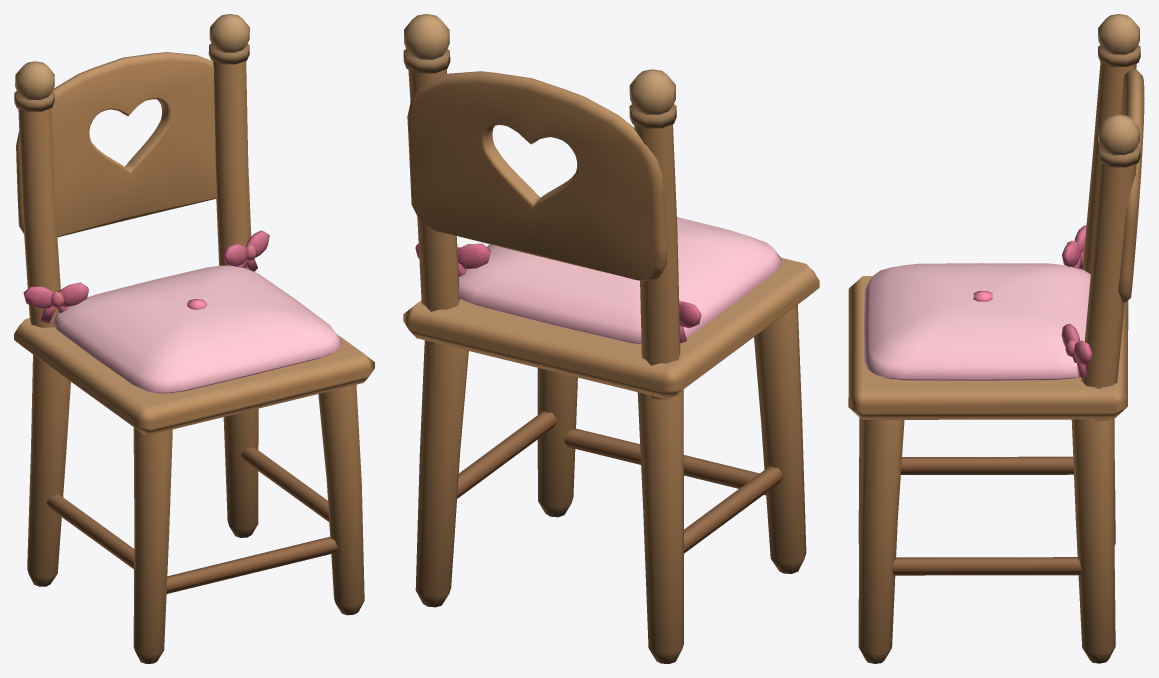
Rendered from furn-woodChair.glb.
The picture shows the model from 3 angles, left to right: view 1: azimuth 30°, elevation 25°; view 2: azimuth 150°, elevation 25°; view 3: azimuth 270°, elevation 25°; orthographic projection. The views are drawn at different scales.
Visible parts, largest first — view 1: body, cloth; view 2: body, cloth; view 3: body, cloth.
Part boxes in pixels (x1=…): body: x1=14, y1=14, x2=374, y2=663; cloth: x1=52, y1=265, x2=342, y2=393; body: x1=403, y1=14, x2=819, y2=663; cloth: x1=458, y1=217, x2=781, y2=344; body: x1=848, y1=14, x2=1144, y2=663; cloth: x1=864, y1=263, x2=1090, y2=380.
Size of the model in its own units: 0.4286 by 0.86 by 0.4237.
